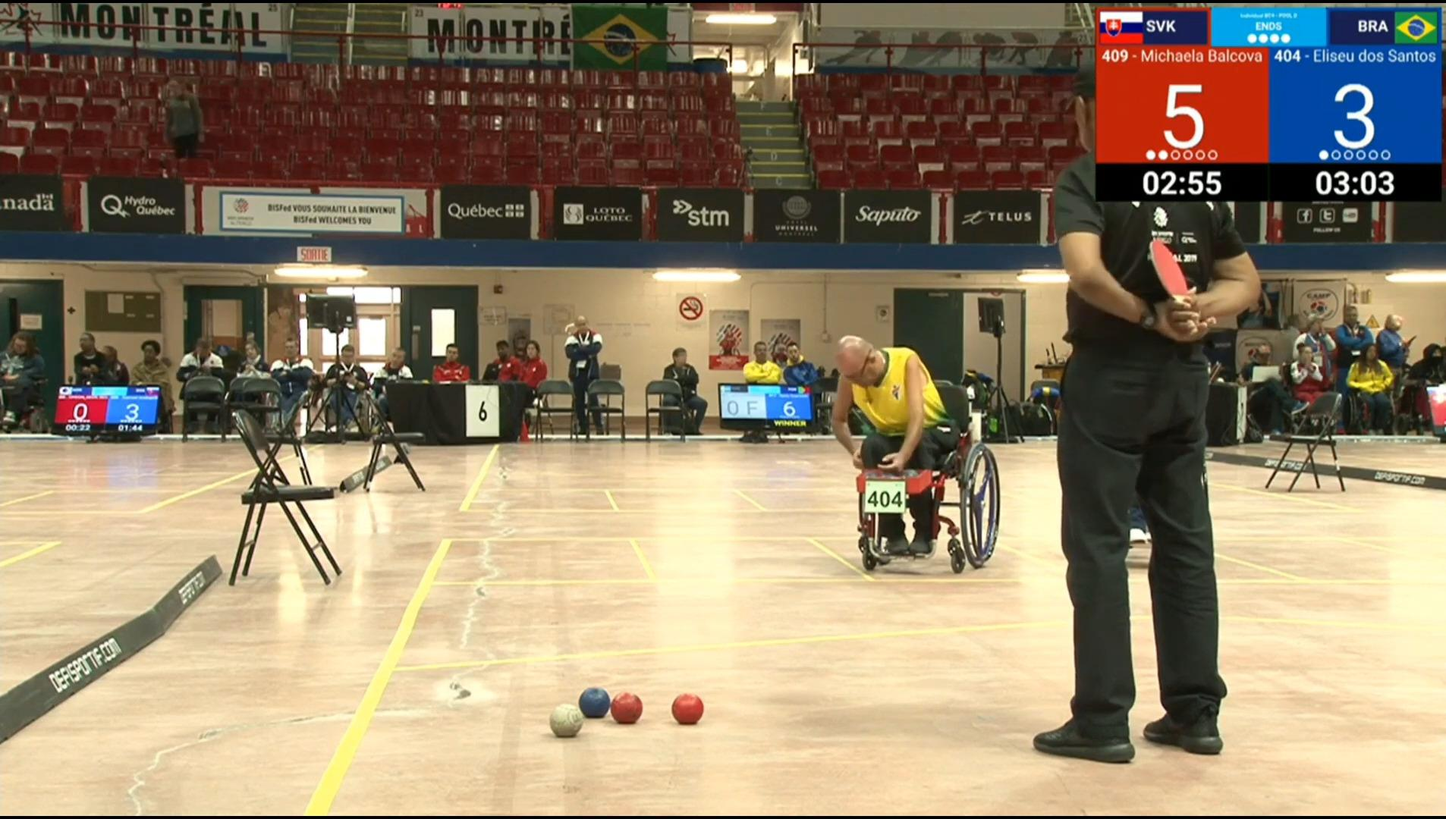blue_ball: (579, 684, 611, 721)
red_ball: (611, 690, 643, 727), (671, 692, 706, 725)
white_ball: (547, 703, 586, 739)
